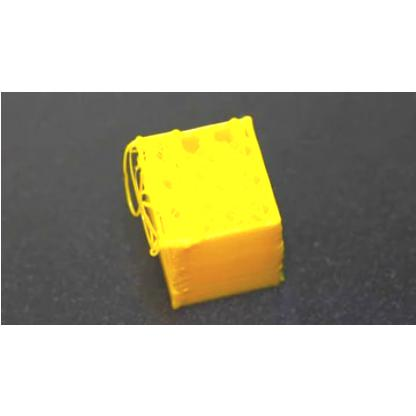fail: (116, 136, 168, 256)
